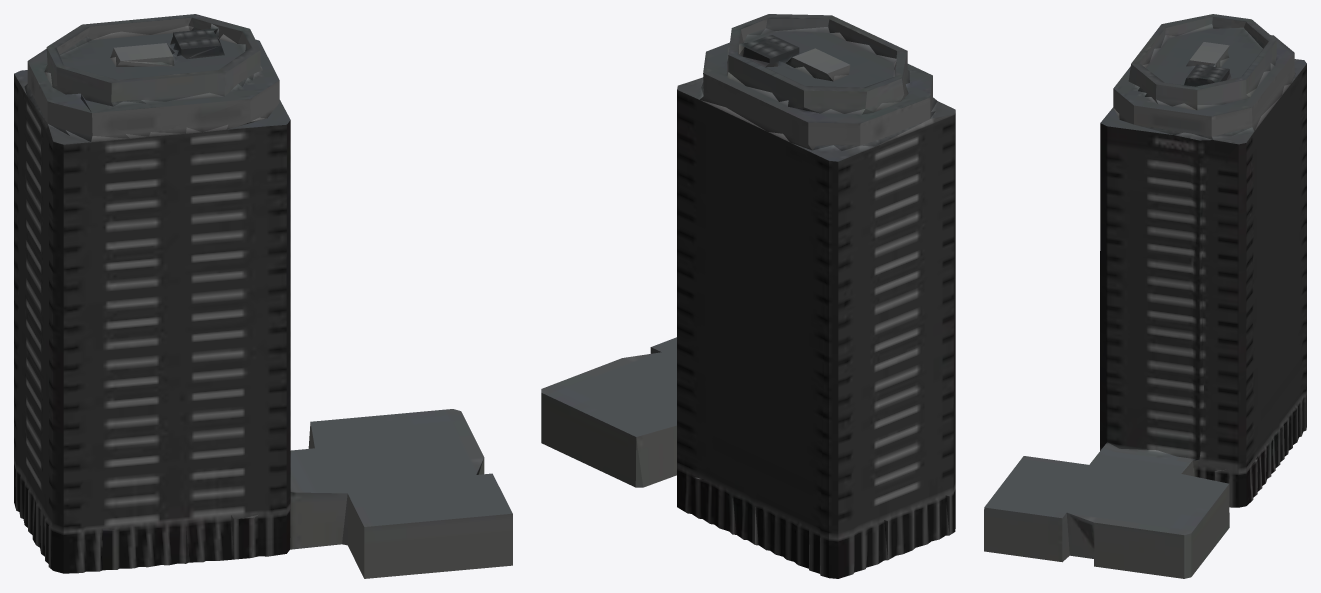
The model's file is t_-3_7.coat.glb.
The picture shows the model from 3 angles, left to right: view 1: azimuth 30°, elevation 25°; view 2: azimuth 150°, elevation 25°; view 3: azimuth 270°, elevation 25°; orthographic projection. The views are drawn at different scales.
Parts seen in each view (by area): view 1: far; view 2: far; view 3: far.
Boxes of the visible parts, x1,y1,x2,y2 form: far: [14, 14, 512, 578]; far: [541, 14, 955, 578]; far: [984, 14, 1306, 578].
Bounding box in the file's own units: 89.03 × 97.6 × 70.58.
1 material, 1 textured.
